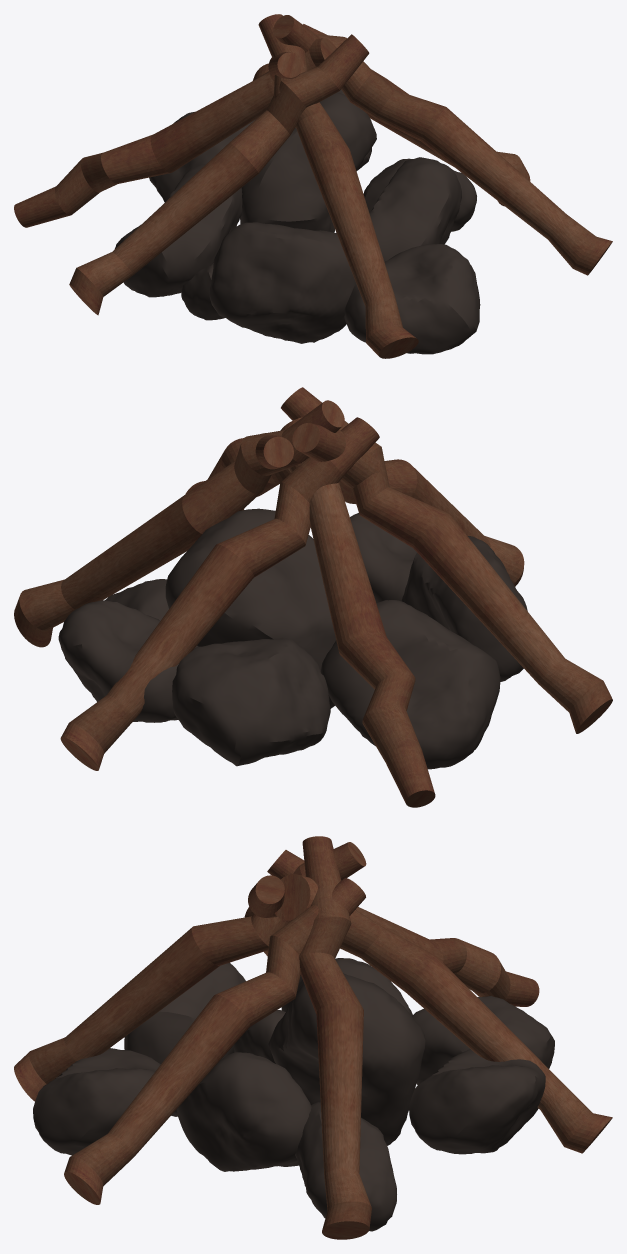
The model's file is Fireplace_Small.glb.
The picture shows the model from 3 angles, top to bottom: view 1: azimuth 30°, elevation 25°; view 2: azimuth 150°, elevation 25°; view 3: azimuth 270°, elevation 25°; orthographic projection. The views are drawn at different scales.
Parts seen in each view (by area): view 1: rock.005, woodstick.006, woodstick.005, woodstick.003, woodstick.002, rock.008, rock.002, rock.006, rock.004, woodstick.004, rock.003, rock.001 (+2 smaller); view 2: woodstick.001, woodstick.006, rock.009, woodstick.003, woodstick.004, rock.004, rock.002, rock.007, woodstick.002, rock.005, rock.008, woodstick.005 (+1 smaller); view 3: woodstick.004, woodstick.005, woodstick.002, woodstick.001, rock.006, rock.002, rock.007, rock.008, woodstick.003, rock.003, rock.005, rock.009 (+3 smaller).
Part boxes in pixels (x1,y1,x2,y2): rock.005: (209, 222, 355, 343); woodstick.006: (69, 34, 369, 315); woodstick.005: (303, 24, 612, 275); woodstick.003: (14, 38, 336, 227); woodstick.002: (258, 14, 418, 358); rock.008: (344, 244, 480, 354); rock.002: (240, 92, 376, 232); rock.006: (336, 157, 461, 261); rock.004: (115, 164, 242, 297); woodstick.004: (273, 15, 530, 206); rock.003: (363, 158, 476, 231); rock.001: (181, 262, 224, 320); woodstick.001: (60, 417, 379, 770); woodstick.006: (281, 387, 612, 733); rock.009: (172, 638, 330, 766); woodstick.003: (280, 417, 435, 807); woodstick.004: (14, 400, 344, 647); rock.004: (320, 600, 500, 769); rock.002: (165, 508, 335, 708); rock.007: (58, 600, 198, 722); woodstick.002: (292, 423, 524, 586); rock.005: (401, 536, 527, 681); rock.008: (350, 513, 416, 602); woodstick.005: (185, 433, 293, 510); woodstick.004: (299, 836, 371, 1239); woodstick.005: (64, 878, 365, 1204); woodstick.002: (14, 842, 366, 1101); woodstick.001: (267, 850, 612, 1153); rock.006: (176, 1052, 311, 1171); rock.002: (268, 973, 425, 1145); rock.007: (409, 1050, 545, 1154); rock.008: (33, 1048, 160, 1155); woodstick.003: (274, 874, 539, 1006); rock.003: (295, 1102, 396, 1231); rock.005: (124, 962, 245, 1116); rock.009: (412, 995, 554, 1084).
Bounding box in the file's own units: 1.97 × 1.08 × 1.92.
Materials: 2 (1 with a texture image).
